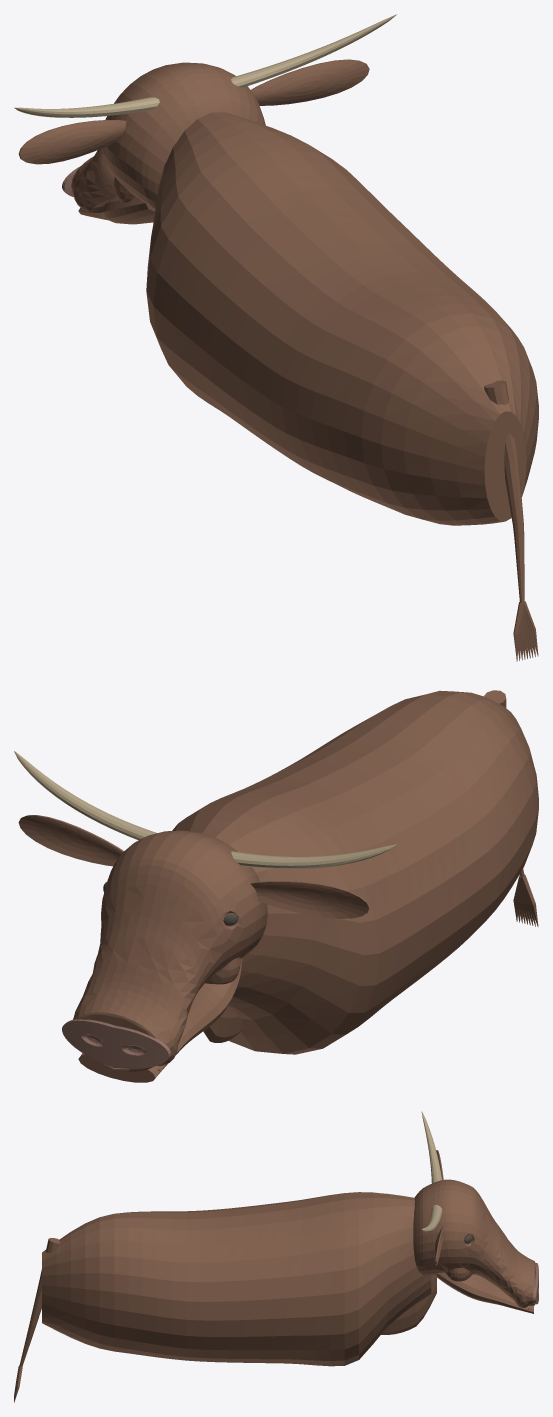
File: body.glb
3 views of the same model, one above another, from view 1: azimuth 30°, elevation 25°; view 2: azimuth 150°, elevation 25°; view 3: azimuth 270°, elevation 25° (orthographic). The views are drawn at different scales.
Parts seen in each view (by area): view 1: Torso, Cranium, EarR, EarL, Tail, HornR, HornL, Jaw; view 2: Torso, Cranium, Nose, EarL, Jaw, EarR, HornL, HornR, Dewlap; view 3: Torso, Cranium, Jaw, Dewlap, Tail, HornL.
Part boxes in pixels (x1,y1,x2,y2): Torso: (146, 112, 538, 525); Cranium: (71, 62, 265, 211); EarR: (250, 59, 369, 105); EarL: (18, 120, 126, 164); Tail: (484, 380, 524, 603); HornR: (231, 14, 396, 87); HornL: (14, 97, 159, 117); Jaw: (78, 195, 155, 224); Torso: (172, 690, 538, 1054); Cranium: (73, 830, 267, 1071); Nose: (62, 1019, 171, 1068); EarL: (250, 881, 369, 918); Jaw: (78, 958, 241, 1082); EarR: (18, 815, 123, 866); HornL: (231, 844, 396, 868); HornR: (14, 751, 157, 840); Dewlap: (203, 1007, 243, 1042); Torso: (42, 1192, 431, 1366); Cranium: (413, 1179, 535, 1308); Jaw: (437, 1272, 533, 1313); Dewlap: (381, 1275, 436, 1334); Tail: (19, 1238, 60, 1366); HornL: (421, 1111, 442, 1183).
Size of the model in its own units: 1.45 by 1.31 by 2.73.
